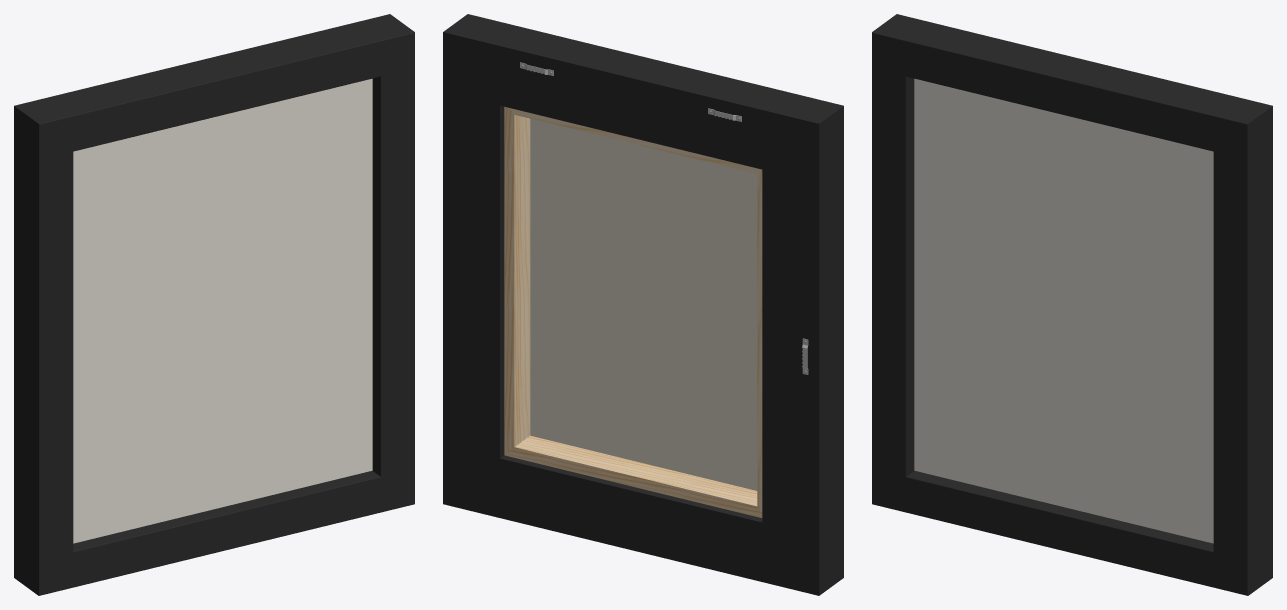
Rendered from decoded-from-delivery.glb.
3 renders of one model, left to right at view 1: azimuth 30°, elevation 25°; view 2: azimuth 150°, elevation 25°; view 3: azimuth 330°, elevation 25°, orthographic.
Parts seen in each view (by area): view 1: Canvas artwork front, Tray approved profile 0; view 2: Tray approved profile 0, Canvas linen reverse, Stretcher top, Sawtooth hanger 0; view 3: Canvas artwork front, Tray approved profile 0.
Boxes of the visible parts, <box> form: Canvas artwork front: <box>73,78,372,543</box>; Tray approved profile 0: <box>14,14,414,595</box>; Tray approved profile 0: <box>443,14,843,595</box>; Canvas linen reverse: <box>530,118,757,490</box>; Stretcher top: <box>504,106,762,517</box>; Sawtooth hanger 0: <box>520,62,808,374</box>; Canvas artwork front: <box>914,78,1213,543</box>; Tray approved profile 0: <box>872,14,1272,595</box>.
Size of the model in its own units: 0.502 by 0.602 by 0.0604.
7 materials, 2 textured.
